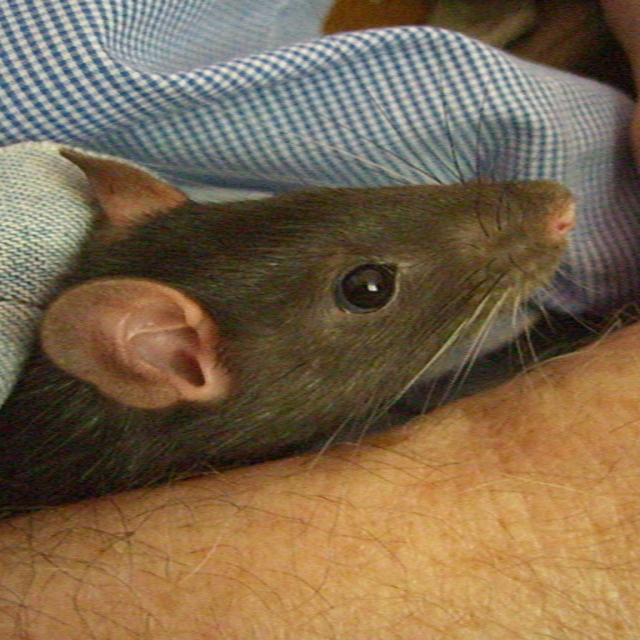rat: (0, 142, 578, 514)
